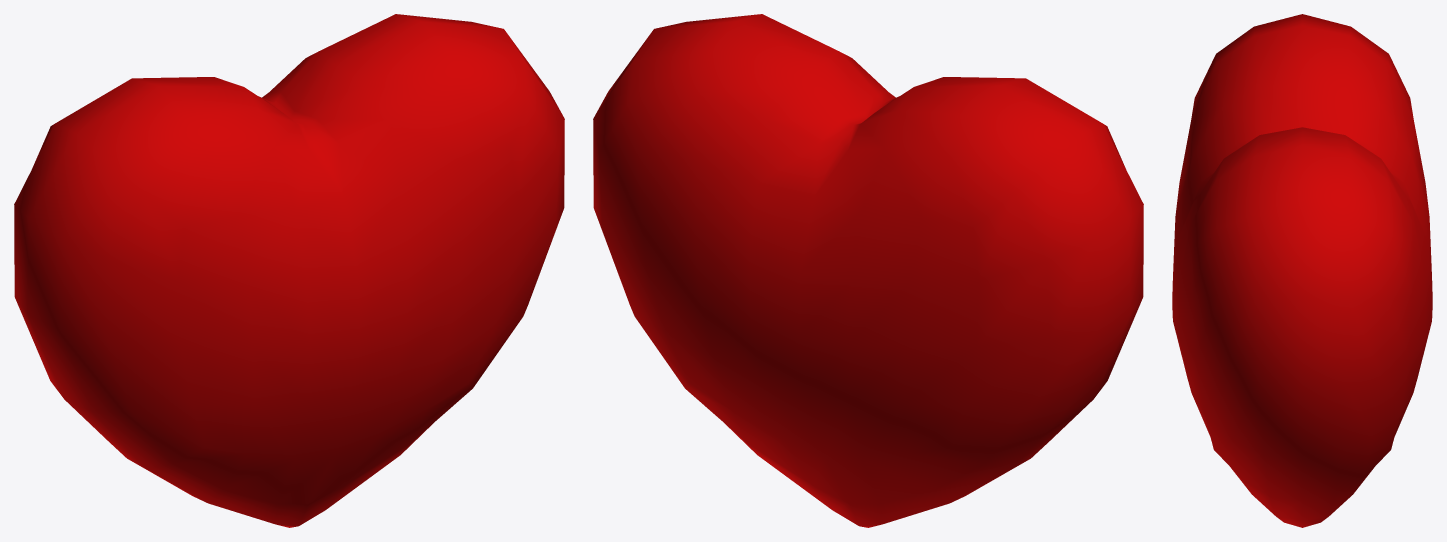
The model's file is love_heart.obj.
3 views of the same model, side by side, from view 1: azimuth 30°, elevation 25°; view 2: azimuth 150°, elevation 25°; view 3: azimuth 270°, elevation 25° (orthographic). The views are drawn at different scales.
Visible parts, largest first — view 1: Vert; view 2: Vert; view 3: Vert.
Part boxes in pixels (left/top/right/bottom): Vert: left=14, top=14, right=564, bottom=527; Vert: left=593, top=14, right=1143, bottom=527; Vert: left=1172, top=14, right=1432, bottom=527.
Bounding box in the file's own units: 2.83 × 2.45 × 1.31.
